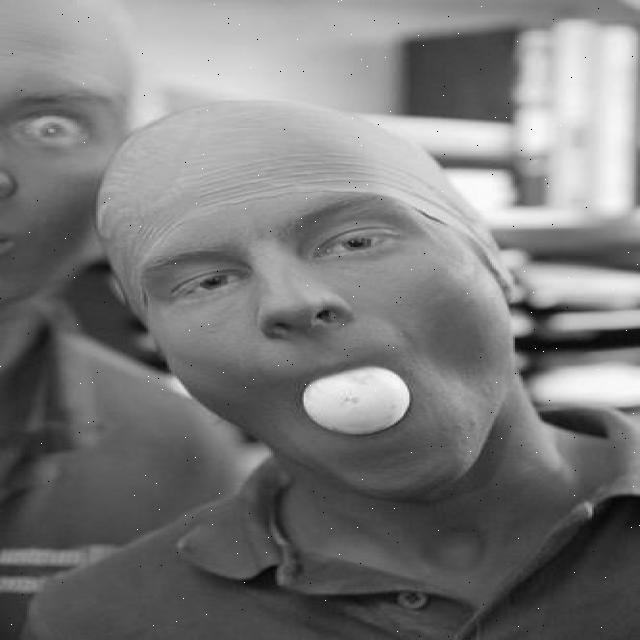ping-pong-ball: (300, 366, 410, 438)
